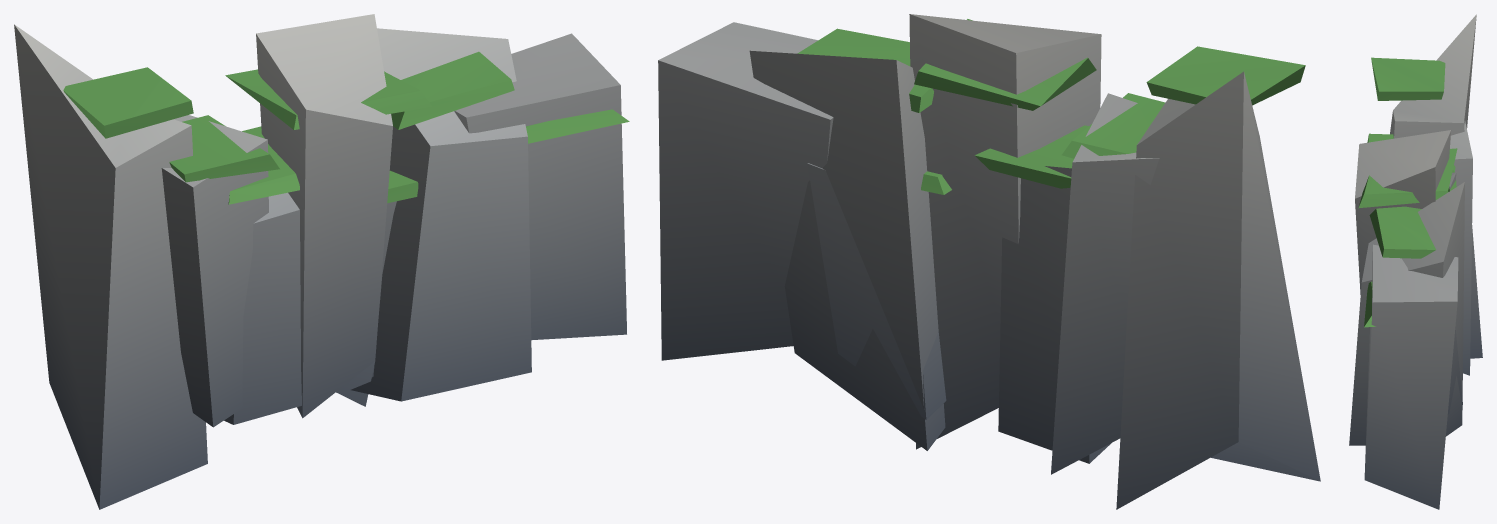
The model's file is cliff.glb.
3 renders of one model, left to right at view 1: azimuth 30°, elevation 25°; view 2: azimuth 150°, elevation 25°; view 3: azimuth 270°, elevation 25°, orthographic. The views are drawn at different scales.
Visible parts, largest first — view 1: Cliff; view 2: Cliff; view 3: Cliff.
Boxes of the visible parts, box(x1,y1,x2,y2) form: Cliff: box(14, 14, 629, 509); Cliff: box(658, 14, 1320, 509); Cliff: box(1349, 14, 1482, 509).
Size of the model in its own units: 21.54 by 16.43 by 6.24.
